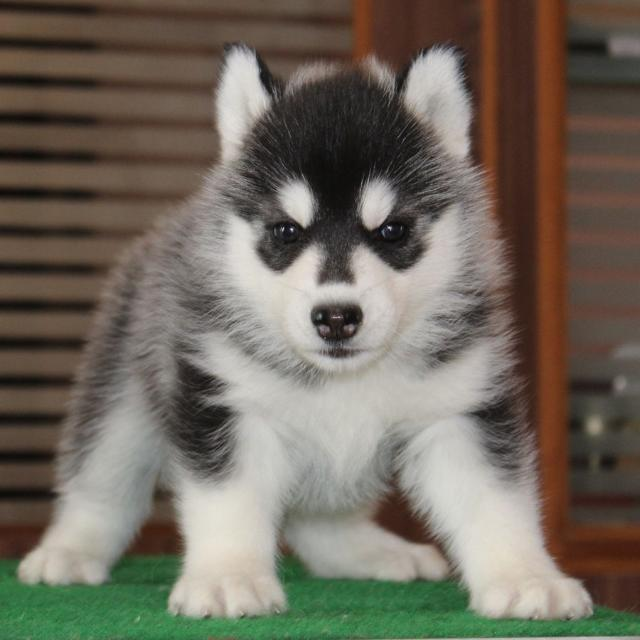dog: (90, 23, 588, 629)
